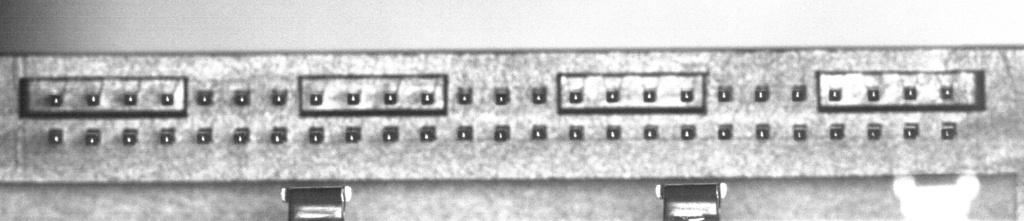pin_ok: (84, 128, 101, 146), (232, 89, 250, 106), (828, 123, 845, 140), (270, 88, 287, 105), (270, 127, 287, 144), (232, 127, 249, 144), (456, 86, 472, 104), (941, 121, 957, 139), (419, 125, 437, 141), (494, 87, 510, 105), (122, 127, 138, 145), (754, 85, 770, 102), (530, 124, 547, 140), (196, 127, 212, 144), (196, 89, 213, 105), (344, 126, 360, 143), (493, 125, 510, 141), (382, 126, 399, 142), (308, 127, 324, 144), (792, 124, 808, 140), (717, 124, 733, 140), (47, 128, 63, 144), (159, 128, 175, 144), (531, 86, 546, 103), (791, 84, 806, 101), (903, 123, 918, 140), (456, 125, 473, 140), (568, 125, 584, 140), (867, 124, 882, 140), (680, 125, 696, 140), (717, 85, 732, 101), (755, 124, 770, 140), (643, 125, 658, 140), (903, 85, 918, 100), (606, 125, 621, 139), (940, 85, 954, 100), (642, 88, 657, 102), (605, 88, 620, 102), (568, 89, 583, 103), (680, 88, 694, 102), (866, 87, 880, 101), (421, 91, 435, 105), (86, 92, 100, 106), (384, 90, 397, 104), (309, 92, 323, 105), (828, 88, 842, 101), (48, 93, 62, 106), (347, 91, 360, 104), (124, 92, 137, 105), (160, 93, 174, 105)
